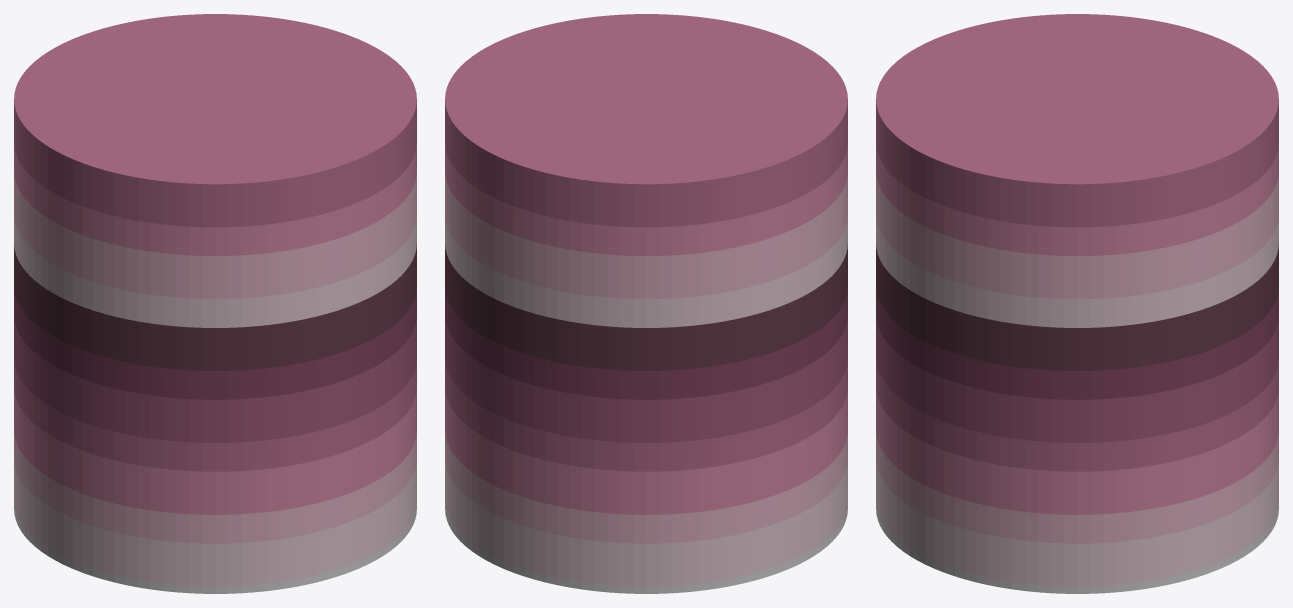
The model's file is cake_10in_layers6.glb.
3 renders of one model, left to right at view 1: azimuth 30°, elevation 25°; view 2: azimuth 150°, elevation 25°; view 3: azimuth 270°, elevation 25°, orthographic.
Parts seen in each view (by area): view 1: geometry_10, geometry_2, geometry_4, geometry_0, geometry_8, geometry_6, geometry_1, geometry_3, geometry_7, geometry_5, geometry_9, geometry_11; view 2: geometry_10, geometry_2, geometry_4, geometry_0, geometry_8, geometry_6, geometry_1, geometry_3, geometry_7, geometry_5, geometry_9, geometry_11; view 3: geometry_10, geometry_2, geometry_4, geometry_0, geometry_8, geometry_6, geometry_1, geometry_3, geometry_7, geometry_5, geometry_9, geometry_11.
Boxes of the visible parts, x1,y1,x2,y2 form: geometry_10: [14, 14, 416, 227]; geometry_2: [14, 388, 416, 514]; geometry_4: [14, 316, 416, 442]; geometry_0: [14, 460, 416, 586]; geometry_8: [14, 173, 416, 299]; geometry_6: [14, 244, 416, 370]; geometry_1: [14, 431, 416, 543]; geometry_3: [14, 359, 416, 471]; geometry_7: [14, 216, 416, 327]; geometry_5: [14, 288, 416, 399]; geometry_9: [14, 144, 416, 255]; geometry_11: [14, 503, 416, 593]; geometry_10: [445, 14, 847, 227]; geometry_2: [445, 388, 847, 514]; geometry_4: [445, 316, 847, 442]; geometry_0: [445, 460, 847, 586]; geometry_8: [445, 173, 847, 299]; geometry_6: [445, 244, 847, 370]; geometry_1: [445, 431, 847, 543]; geometry_3: [445, 359, 847, 471]; geometry_7: [445, 216, 847, 327]; geometry_5: [445, 288, 847, 399]; geometry_9: [445, 144, 847, 255]; geometry_11: [445, 503, 847, 593]; geometry_10: [876, 14, 1278, 227]; geometry_2: [876, 388, 1278, 514]; geometry_4: [876, 316, 1278, 442]; geometry_0: [876, 460, 1278, 586]; geometry_8: [876, 173, 1278, 299]; geometry_6: [876, 244, 1278, 370]; geometry_1: [876, 431, 1278, 543]; geometry_3: [876, 359, 1278, 471]; geometry_7: [876, 216, 1278, 327]; geometry_5: [876, 288, 1278, 399]; geometry_9: [876, 144, 1278, 255]; geometry_11: [876, 503, 1278, 593].
Size of the model in its own units: 0.254 by 0.285 by 0.254.
